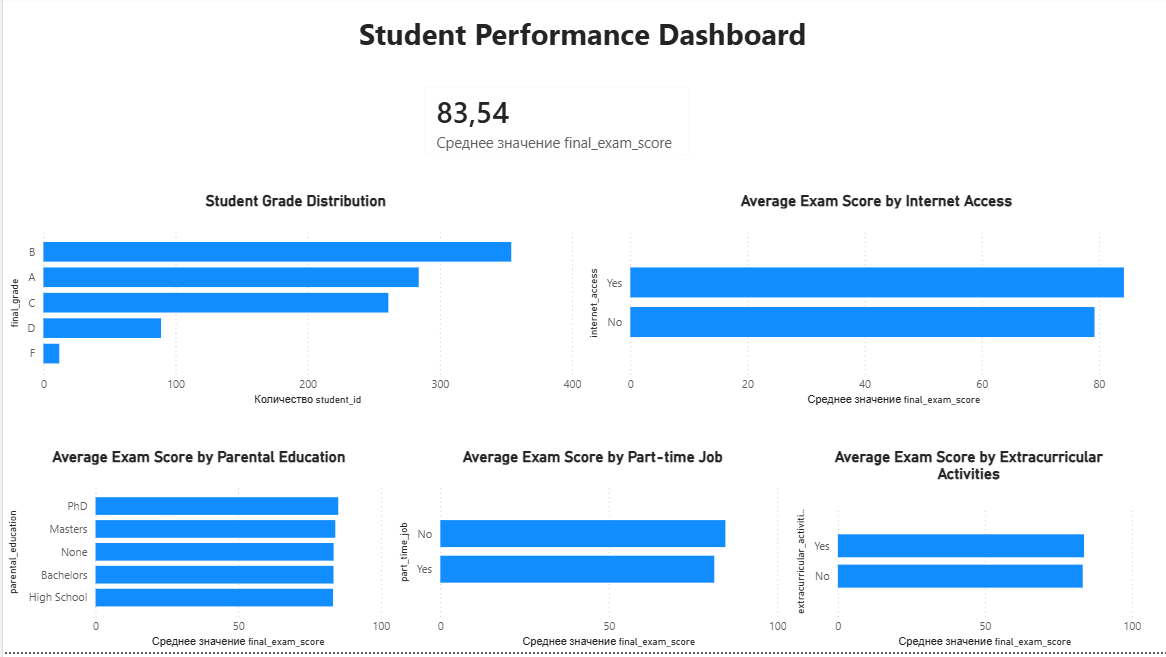

The page's visual inventory and layout, read from the dashboard file:
{"tool":"powerbi","page":{"name":"Dashboard","canvas":[1280,720],"ordinal":0},"visuals":[{"type":"clusteredBarChart","title":"Student Grade Distribution","fields":{"Y":["CountNonNull(student_performance_dataset.student_id)"],"Category":["student_performance_dataset.final_grade"]},"box":[2.9,214.3,637.1,240],"z":0},{"type":"clusteredBarChart","title":"Average Exam Score by Internet Access","fields":{"Category":["student_performance_dataset.internet_access"],"Y":["Avg(student_performance_dataset.final_exam_score)"]},"box":[638.6,214.3,641.4,240],"z":1000},{"type":"clusteredBarChart","title":"Average Exam Score by Parental Education","fields":{"Category":["student_performance_dataset.parental_education"],"Y":["Avg(student_performance_dataset.final_exam_score)"]},"box":[0,495.7,430,224.3],"z":2000},{"type":"clusteredBarChart","title":"Average Exam Score by Part-time Job","fields":{"Category":["student_performance_dataset.part_time_job"],"Y":["Avg(student_performance_dataset.final_exam_score)"]},"box":[430,495.7,435.7,224.3],"z":3000},{"type":"clusteredBarChart","title":"Average Exam Score by Extracurricular Activities","fields":{"Category":["student_performance_dataset.extracurricular_activities"],"Y":["Avg(student_performance_dataset.final_exam_score)"]},"box":[865.7,495.7,388.6,224.3],"z":4000},{"type":"textbox","box":[121.4,15.7,1031.4,54.3],"z":5000},{"type":"cardVisual","fields":{"Data":["Avg(student_performance_dataset.final_exam_score)"]},"box":[445.7,82.9,325.7,110],"z":6000}]}

Visuals, with their boxes in screenshot pixels (x1, y1, x2, y2), scaled from the page's 1280x720 canvas onto the 1166x657 screenshot:
"Student Grade Distribution" clusteredBarChart: left=3, top=196, right=583, bottom=415
"Average Exam Score by Internet Access" clusteredBarChart: left=582, top=196, right=1165, bottom=415
"Average Exam Score by Parental Education" clusteredBarChart: left=0, top=452, right=392, bottom=656
"Average Exam Score by Part-time Job" clusteredBarChart: left=392, top=452, right=789, bottom=656
"Average Exam Score by Extracurricular Activities" clusteredBarChart: left=789, top=452, right=1143, bottom=656
textbox: left=111, top=14, right=1050, bottom=64
cardVisual - Avg(student_performance_dataset.final_exam_score): left=406, top=76, right=703, bottom=176
